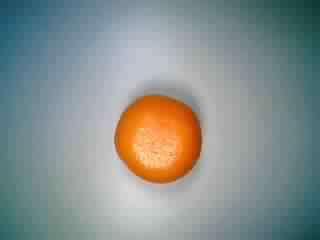orange: (107, 87, 201, 186)
